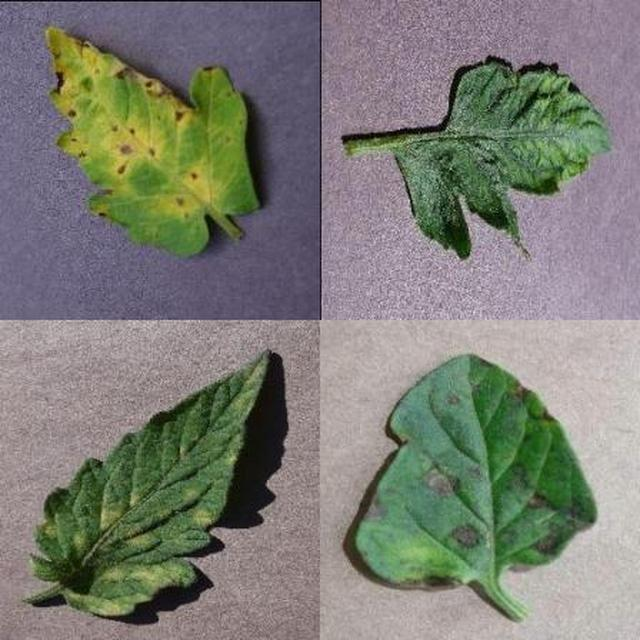Septoria Leaf: (216, 198, 640, 640)
